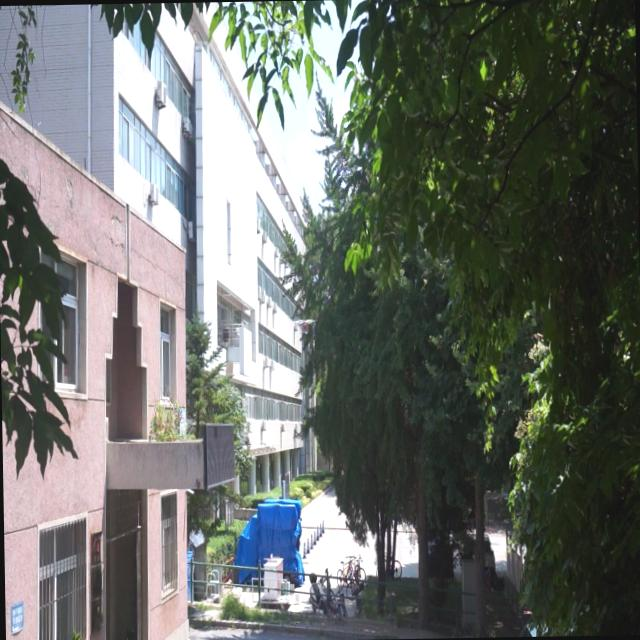drone: (296, 316, 314, 336)
